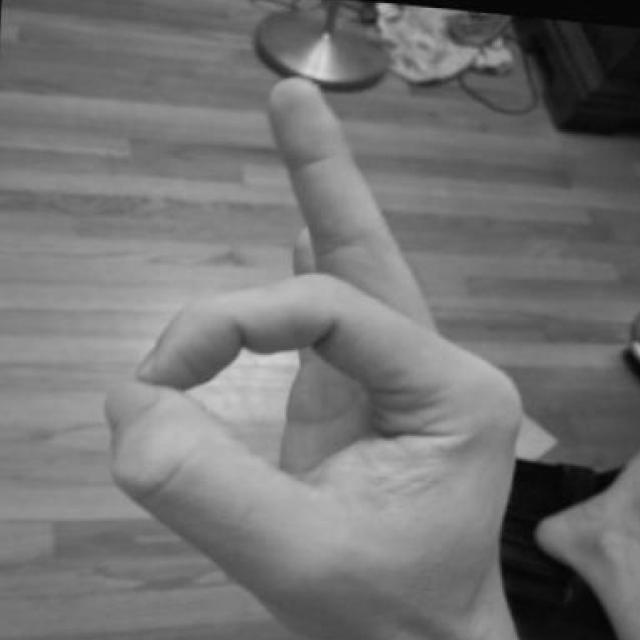F: (71, 65, 543, 640)
